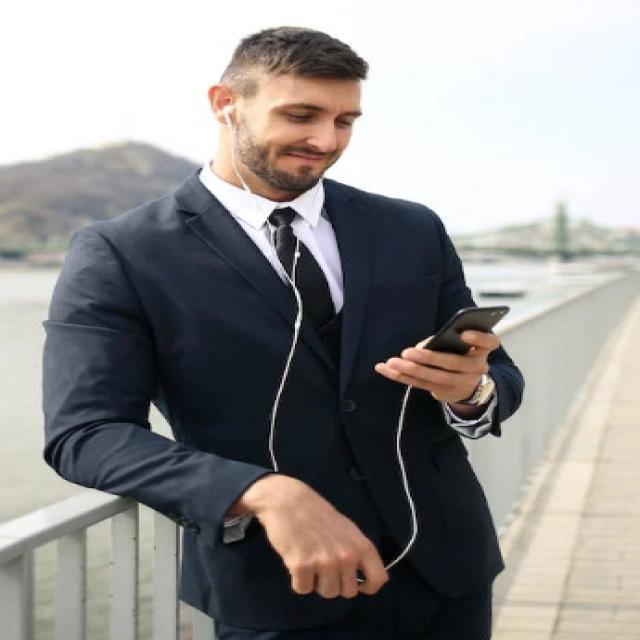Watch: (457, 368, 497, 413)
